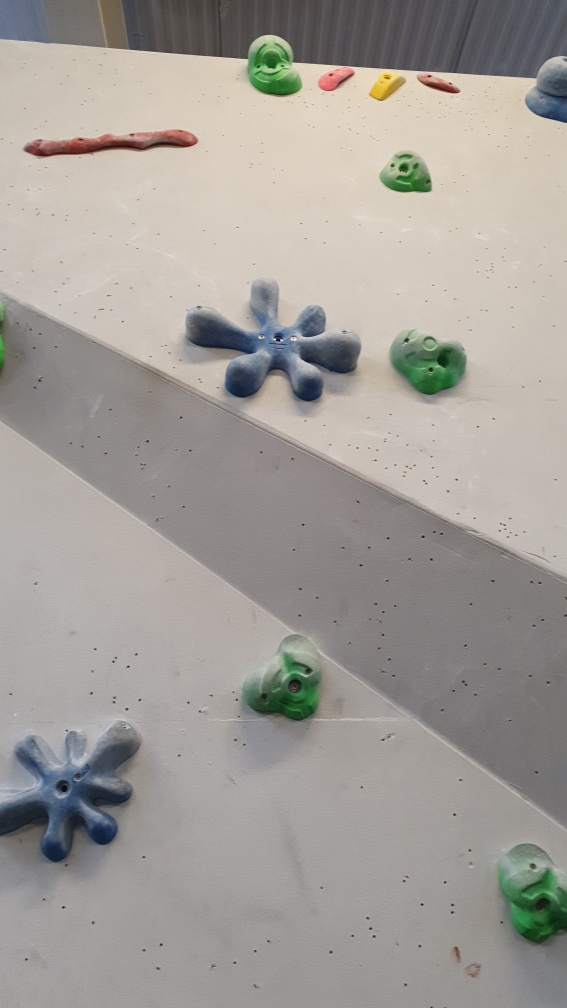Crimp: (415, 69, 465, 96), (316, 63, 354, 93)
Jug: (235, 628, 324, 729), (498, 834, 567, 940), (387, 327, 468, 399), (245, 31, 307, 102), (381, 149, 434, 195)
Octopus Pinch: (183, 271, 365, 408), (1, 713, 145, 861)
Sloper: (521, 55, 567, 126)
